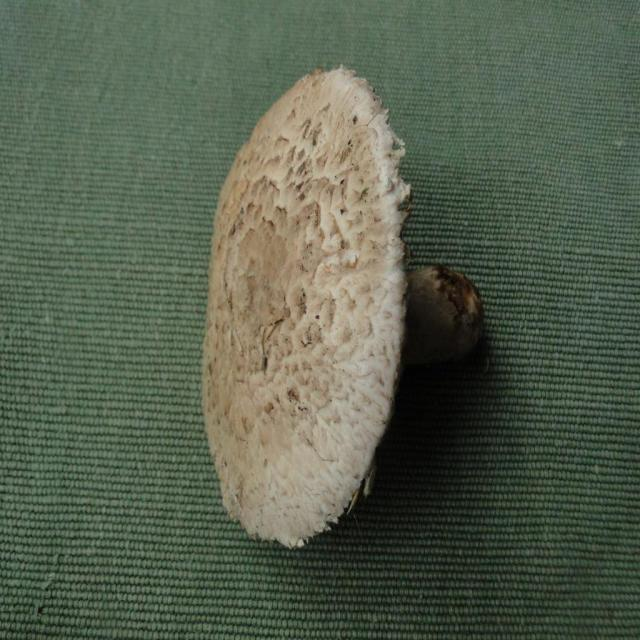Agaricus bisporus: (200, 67, 488, 550)
